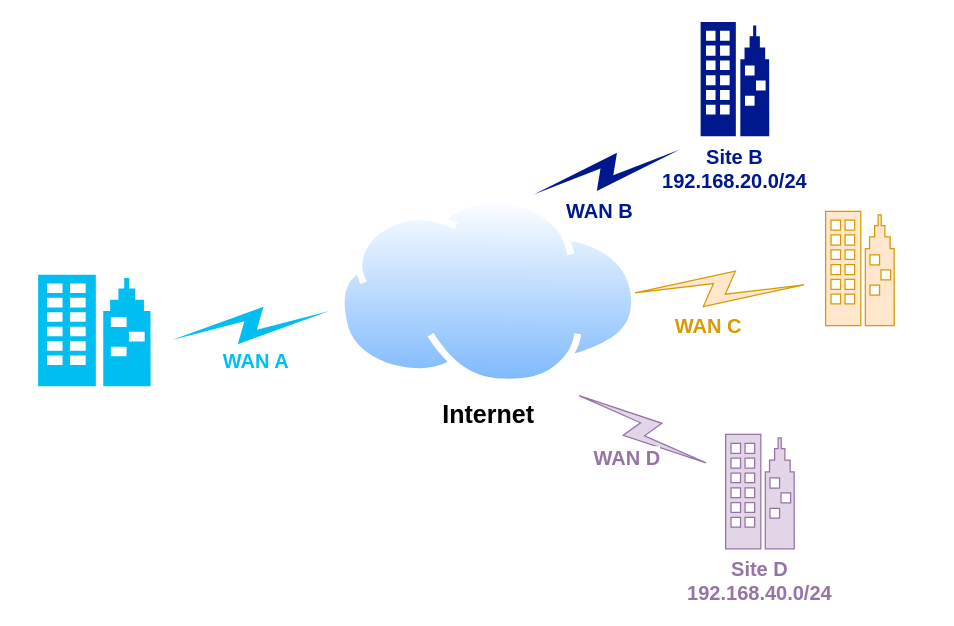
The diagram is 954 pixels wide and 626 high, and some of its shapes have lost their labels. Here are the shapes that lost their labels. From the top down, the box of each, then its label:
(824, 210, 894, 326): Site C 192.168.30.0/24
(38, 274, 150, 386): Site A 192.168.10.0/24
